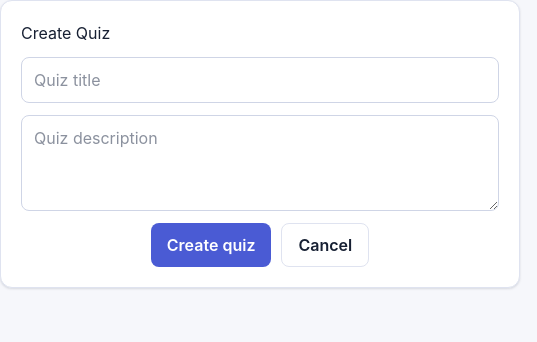
Test: CreateQuizForm › preserves the entered title and description and shows an error when the save fails
The width and height of the screenshot is (537, 342).
In the field with placeholder "Quiz title": coordinates (260, 80) left=21, top=57, right=499, bottom=103, type "My Quiz Title"
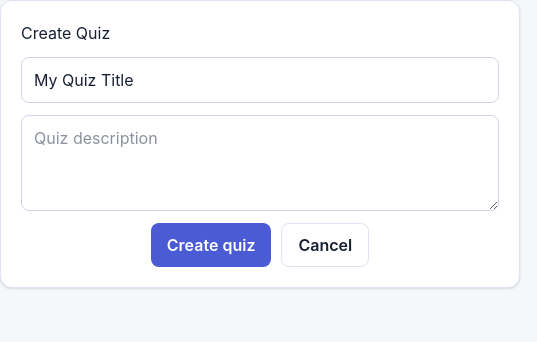
In the text box with placeholder "Quiz description": coordinates (260, 163) left=21, top=115, right=499, bottom=211, type "My quiz description"
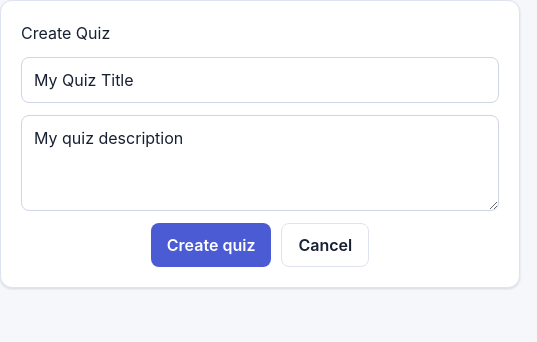
Click the button "Create quiz": coordinates (211, 245) left=151, top=223, right=271, bottom=267
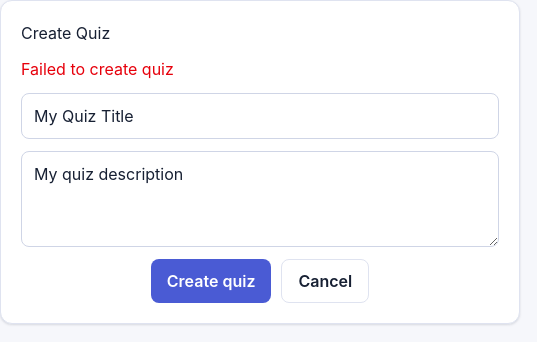
Check: the button "Create quiz" is enabled, box left=151, top=259, right=271, bottom=303
Check: the text "Failed to create quiz" is shown, box left=21, top=59, right=174, bottom=79
